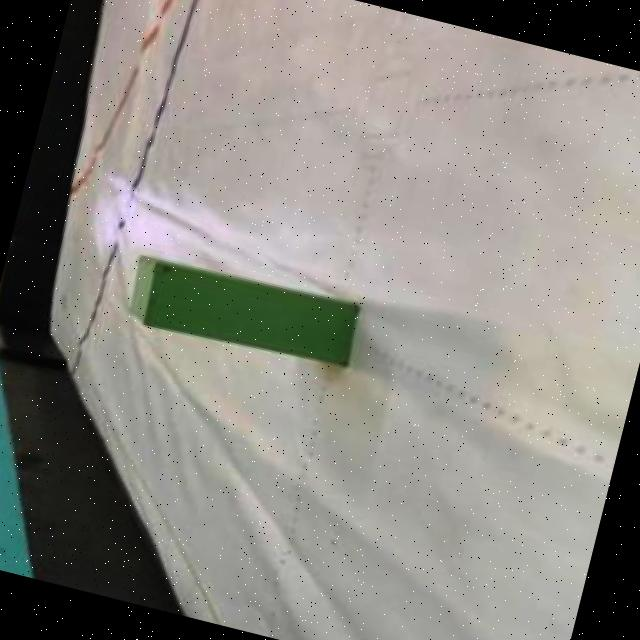greenbox: (117, 248, 366, 374)
